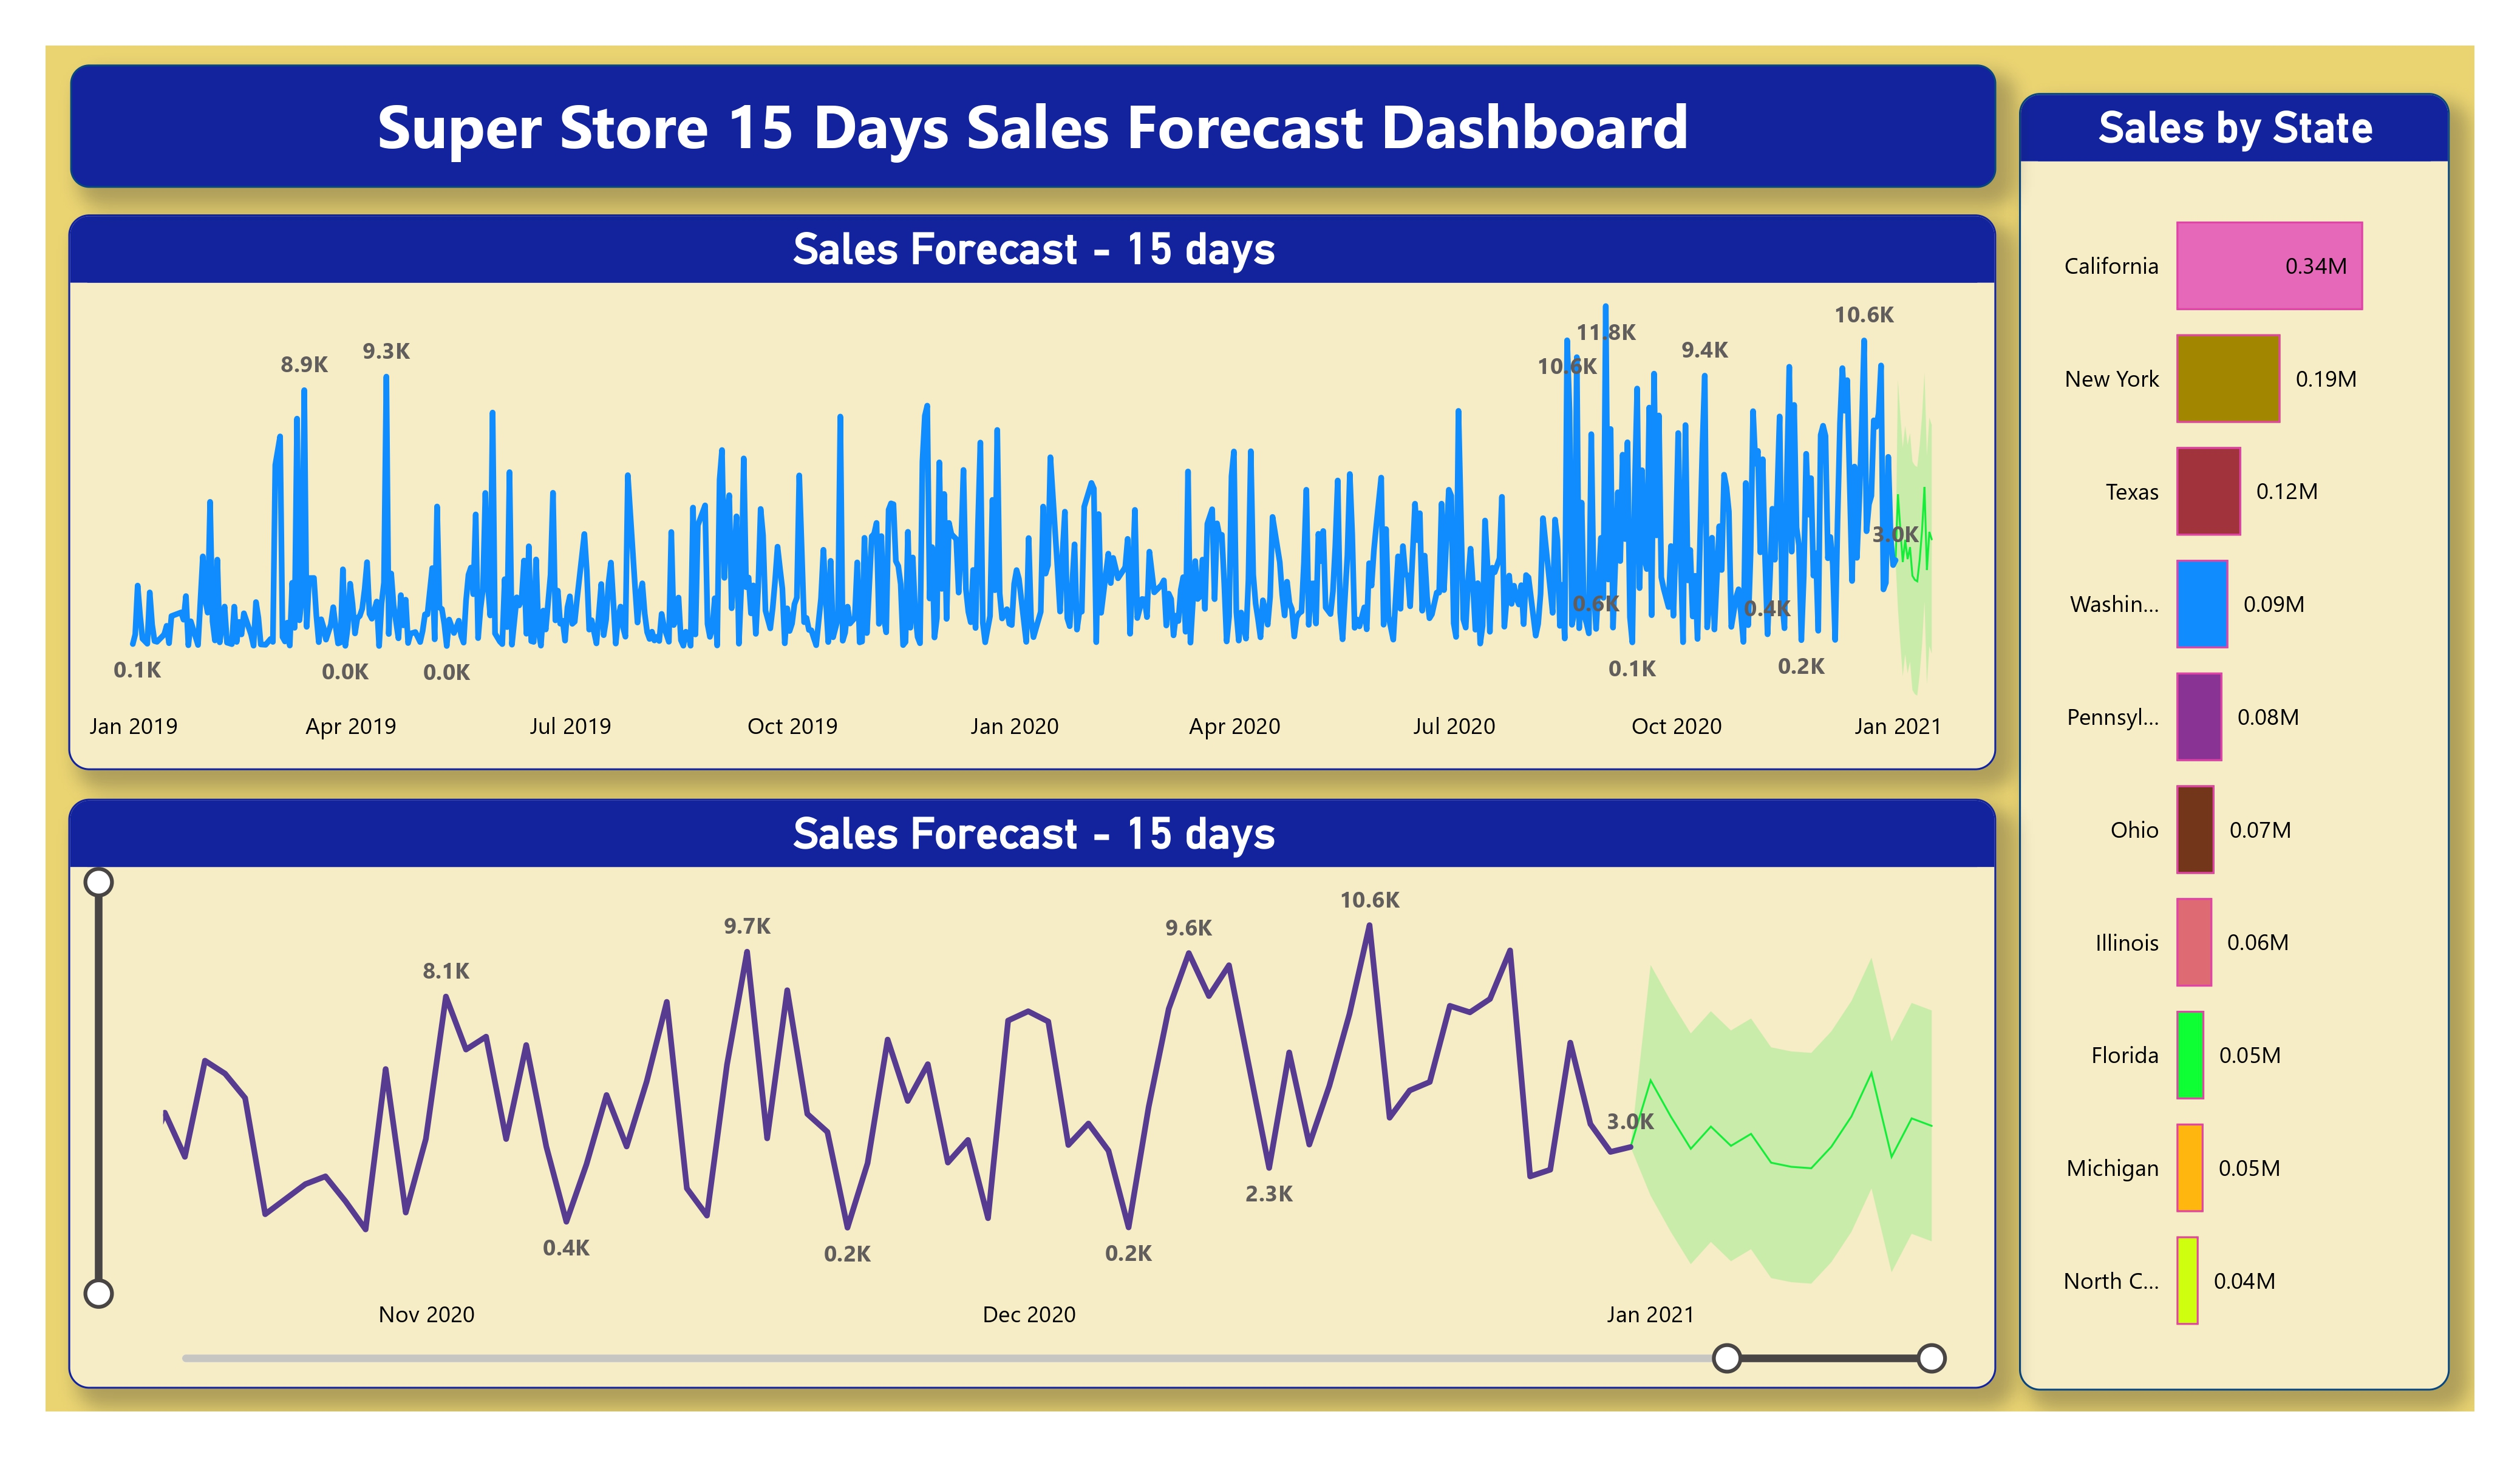

Layout of this report page (visuals, bound fields, positions):
{"tool":"powerbi","page":{"name":"Sales forecast dashboard","canvas":[1280,720],"ordinal":1},"visuals":[{"type":"lineChart","title":"Sales Forecast - 15 days","fields":{"Y":["Sum(SuperStore_Sales_Dataset.Sales)"],"Category":["SuperStore_Sales_Dataset.Order Date"]},"box":[11.5,89.3,1016.6,292.3],"z":0},{"type":"clusteredBarChart","title":"Sales by State","fields":{"Category":["SuperStore_Sales_Dataset.State"],"Y":["Sum(SuperStore_Sales_Dataset.Sales)"]},"box":[1039.8,25.2,226.8,683.7],"z":1},{"type":"lineChart","title":"Sales Forecast - 15 days","fields":{"Y":["Sum(SuperStore_Sales_Dataset.Sales)"],"Category":["SuperStore_Sales_Dataset.Order Date"]},"box":[11.5,397.4,1016.6,311],"z":2},{"type":"textbox","box":[13,10.1,1015.2,64.8],"z":3}]}

Visuals, with their boxes on the page's 1280x720 design canvas (x1, y1, x2, y2). These are canvas units, not pixel positions in the 2520x1457 screenshot, which may show the page scaled, cropped or inside an application window:
"Sales Forecast - 15 days" lineChart: pyautogui.locateOnScreen(12, 89, 1028, 382)
"Sales by State" clusteredBarChart: pyautogui.locateOnScreen(1040, 25, 1267, 709)
"Sales Forecast - 15 days" lineChart: pyautogui.locateOnScreen(12, 397, 1028, 708)
textbox: pyautogui.locateOnScreen(13, 10, 1028, 75)
